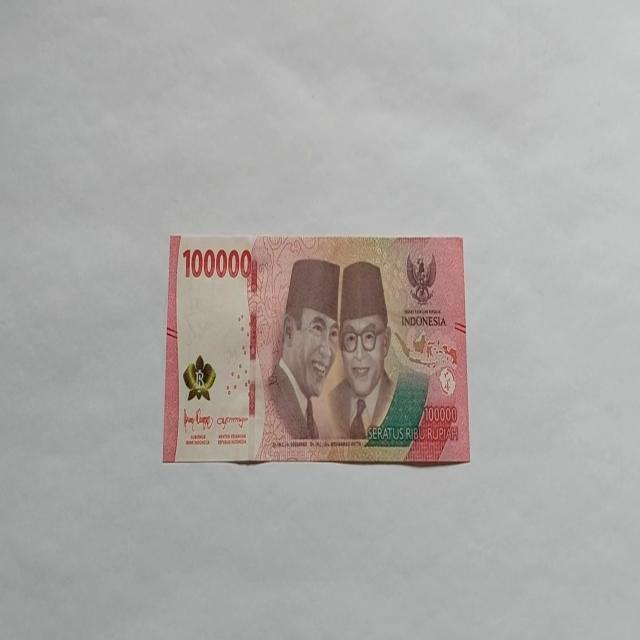seratus ribu rupiah: (162, 232, 470, 467), (259, 256, 341, 456)
